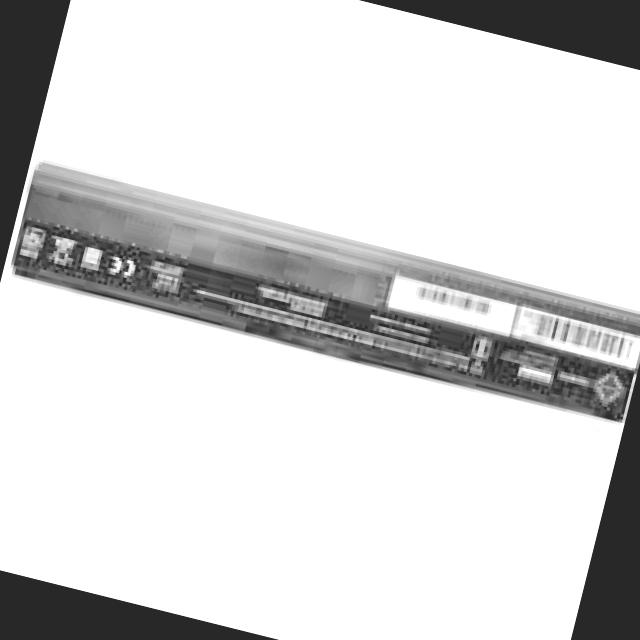Battery: (4, 160, 640, 429)
